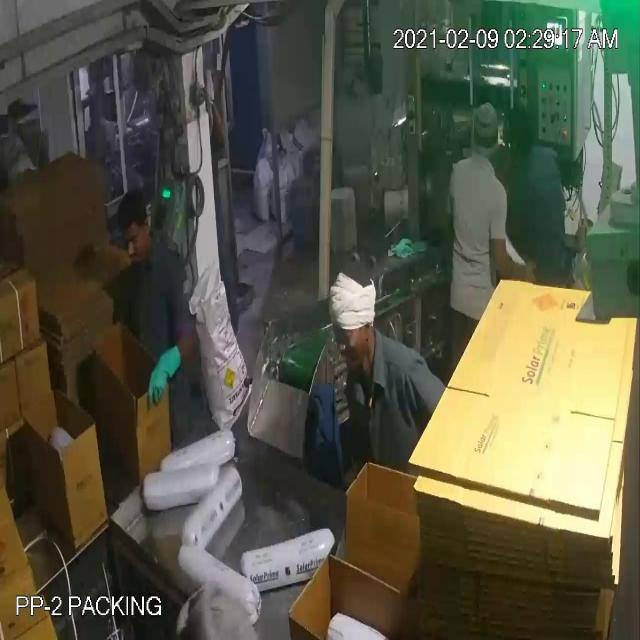Gloves: (25, 58, 521, 374)
